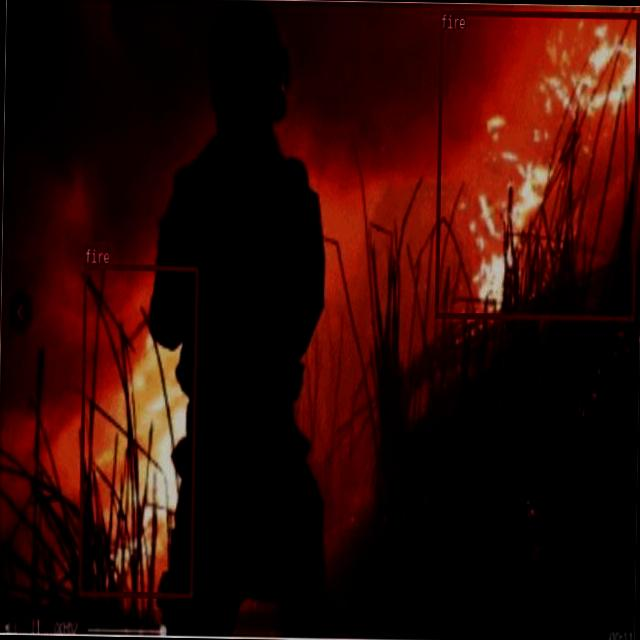fire: (434, 9, 639, 320), (78, 263, 198, 596)
